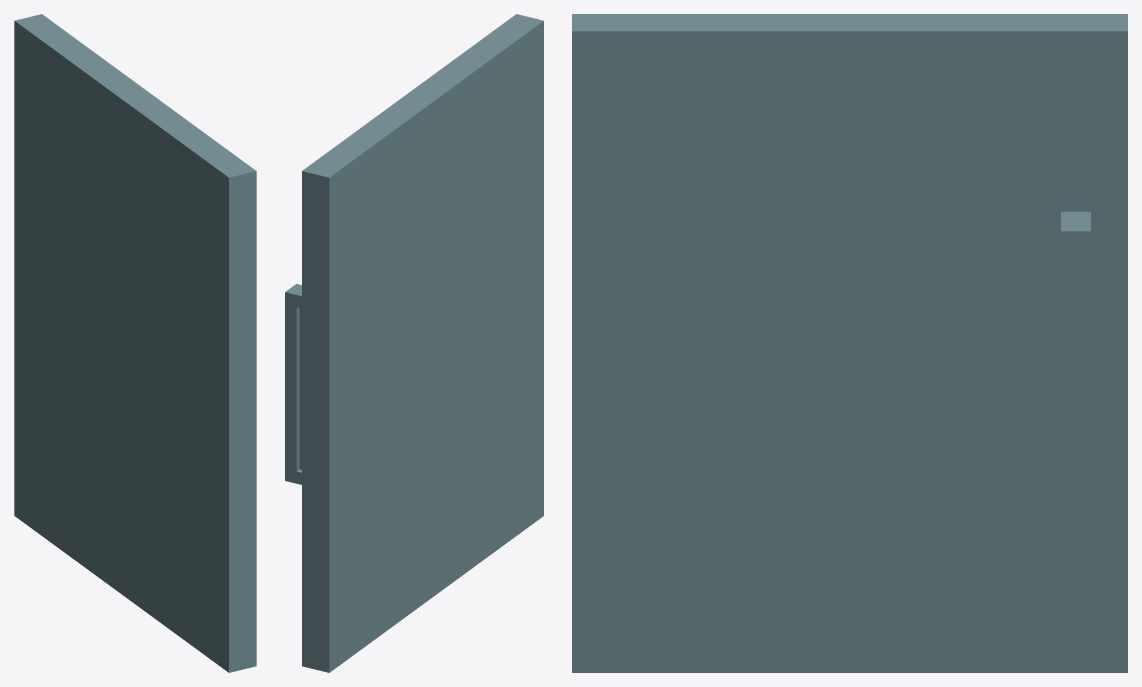
Rendered from Cabinet_Big_Door.000.fbx.
The picture shows the model from 3 angles, left to right: view 1: azimuth 30°, elevation 25°; view 2: azimuth 150°, elevation 25°; view 3: azimuth 270°, elevation 25°; orthographic projection. The views are drawn at different scales.
Visible parts, largest first — view 1: Cabinet_Big_Door.000; view 2: Cabinet_Big_Door.000; view 3: Cabinet_Big_Door.000.
Part boxes in pixels (box(x1,y1,x2,y2)): Cabinet_Big_Door.000: box(14, 14, 256, 672); Cabinet_Big_Door.000: box(285, 14, 543, 672); Cabinet_Big_Door.000: box(572, 14, 1127, 672).
Size of the model in its own units: 7.35 by 59.29 by 46.56.
